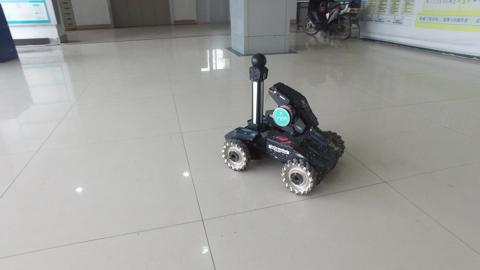chariot: (220, 51, 346, 196)
